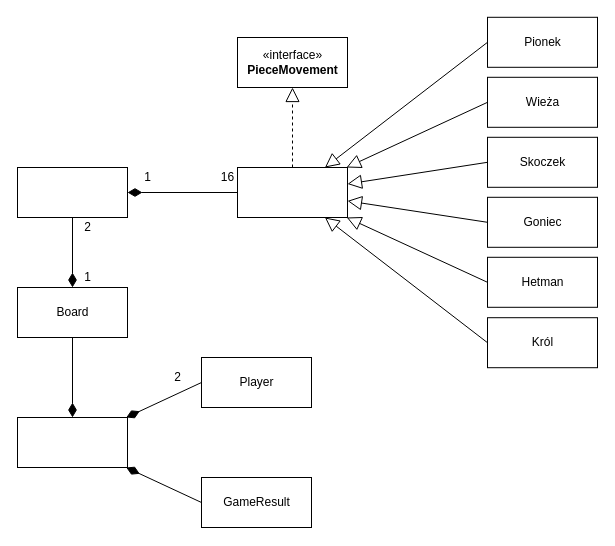
Image size: 615x546. Some labels were removed from this diagram. The shapes that lost their labels are listed below. From the top down, each one's box as (x1, y1, x2, y2) in pixels, then its label:
(16, 166, 128, 218): PieceSet
(236, 166, 348, 218): Piece
(16, 416, 128, 468): Game
